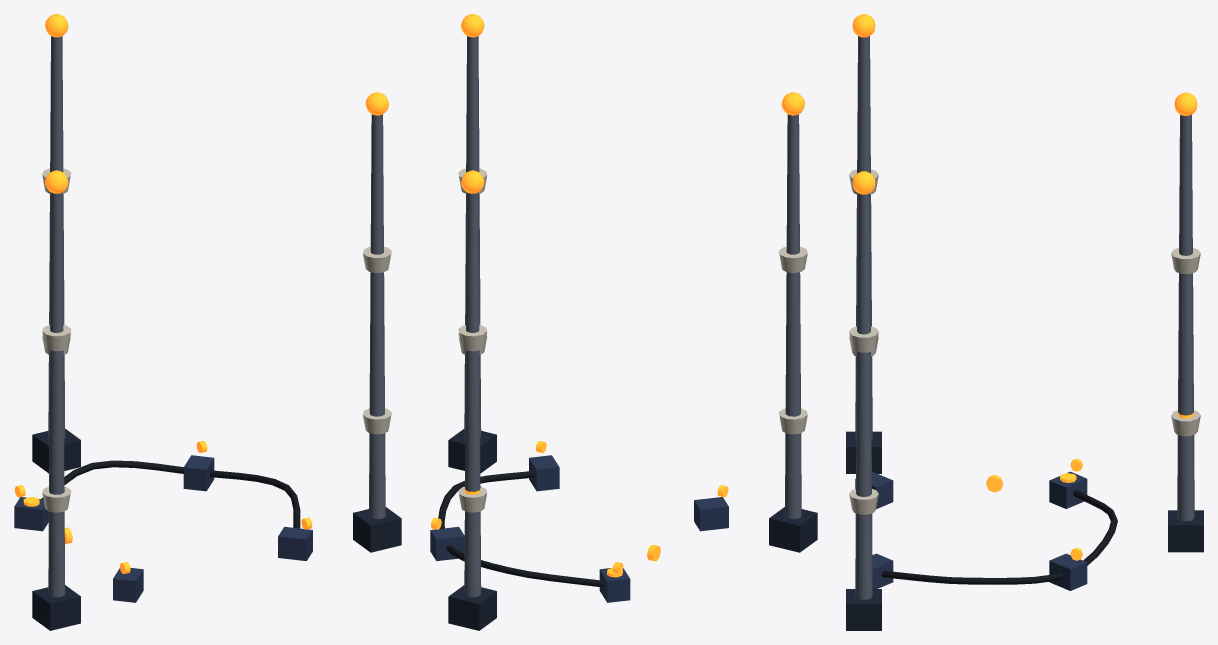
The model's file is tower_overclock_network_s6.glb.
3 views of the same model, side by side, from view 1: azimuth 30°, elevation 25°; view 2: azimuth 150°, elevation 25°; view 3: azimuth 270°, elevation 25° (orthographic).
Visible parts, largest first — view 1: overclock_antenna2, overclock_antenna1, overclock_antenna0, overclock_relay_cable, overclock_antenna_foot1, overclock_antenna_foot2, overclock_antenna_foot0, overclock_relay2, overclock_relay1, overclock_relay3, overclock_relay0, overclock_antenna_insulator11.9 (+3 smaller); view 2: overclock_antenna2, overclock_antenna0, overclock_antenna1, overclock_relay_cable, overclock_antenna_foot0, overclock_antenna_foot2, overclock_antenna_foot1, overclock_relay3, overclock_relay2, overclock_relay1, overclock_relay0, overclock_antenna_insulator21.9 (+3 smaller); view 3: overclock_antenna1, overclock_antenna0, overclock_antenna2, overclock_relay_cable, overclock_antenna_foot0, overclock_antenna_foot1, overclock_relay1, overclock_relay0, overclock_antenna_foot2, overclock_relay2, overclock_relay3, overclock_antenna_insulator11.9 (+3 smaller).
Part boxes in pixels (x1,y1,x2,y2): overclock_antenna2: [48, 192, 65, 597]; overclock_antenna1: [369, 114, 385, 518]; overclock_antenna0: [48, 36, 65, 438]; overclock_relay_cable: [41, 460, 300, 528]; overclock_antenna_foot1: [353, 507, 401, 552]; overclock_antenna_foot2: [32, 585, 80, 630]; overclock_antenna_foot0: [32, 428, 80, 473]; overclock_relay2: [278, 526, 312, 560]; overclock_relay1: [183, 455, 214, 491]; overclock_relay3: [113, 567, 143, 602]; overclock_relay0: [14, 497, 48, 531]; overclock_antenna_insulator11.9: [363, 246, 391, 272]; overclock_antenna2: [785, 114, 801, 518]; overclock_antenna0: [464, 192, 481, 597]; overclock_antenna1: [464, 36, 481, 438]; overclock_relay_cable: [438, 470, 603, 587]; overclock_antenna_foot0: [448, 585, 496, 630]; overclock_antenna_foot2: [769, 507, 817, 552]; overclock_antenna_foot1: [448, 429, 496, 473]; overclock_relay3: [694, 497, 728, 531]; overclock_relay2: [529, 455, 559, 491]; overclock_relay1: [430, 526, 464, 561]; overclock_relay0: [599, 568, 630, 602]; overclock_antenna_insulator21.9: [779, 246, 807, 272]; overclock_antenna1: [855, 193, 872, 599]; overclock_antenna0: [1177, 114, 1194, 521]; overclock_antenna2: [855, 36, 872, 439]; overclock_relay_cable: [881, 490, 1117, 584]; overclock_antenna_foot0: [1168, 510, 1203, 552]; overclock_antenna_foot1: [846, 589, 881, 630]; overclock_relay1: [1049, 553, 1087, 590]; overclock_relay0: [1049, 471, 1087, 508]; overclock_antenna_foot2: [846, 431, 881, 473]; overclock_relay2: [872, 553, 893, 588]; overclock_relay3: [855, 471, 893, 508]; overclock_antenna_insulator11.9: [849, 326, 878, 352].
Size of the model in its own units: 1.37 by 1.67 by 1.2.
